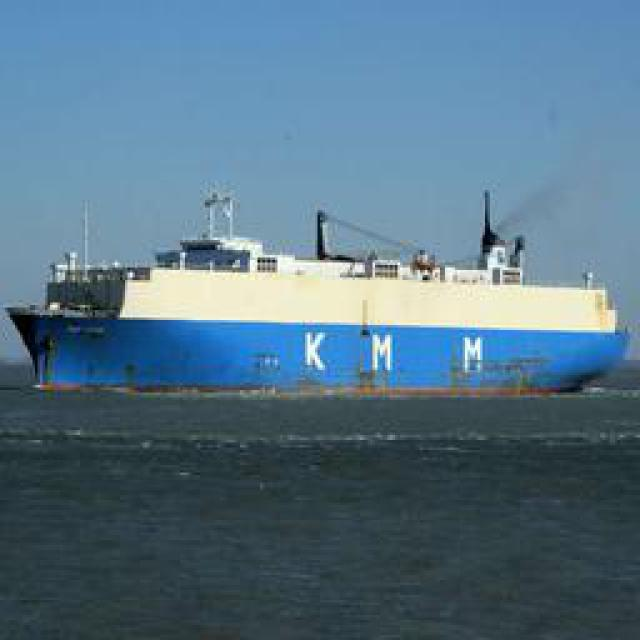Ship: (10, 192, 623, 402)
